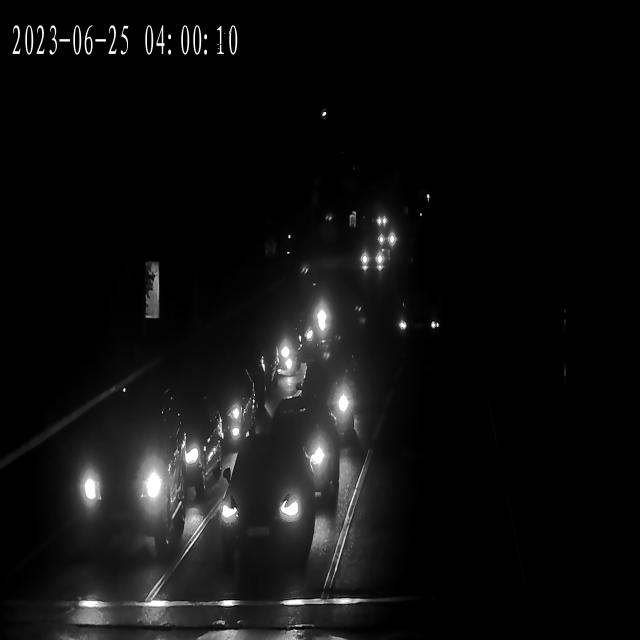Car: (61, 408, 190, 535), (214, 454, 316, 574), (148, 394, 228, 496), (166, 370, 262, 453), (298, 360, 360, 438), (237, 317, 307, 380), (358, 248, 388, 272), (375, 232, 397, 250), (371, 214, 389, 229), (368, 213, 386, 228)
